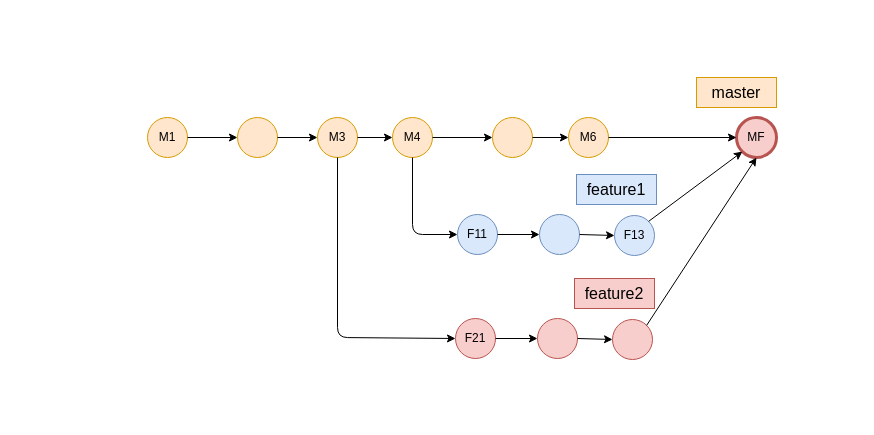
This 874x435 diagram has some shape labels left out. Here are the shapes that lost their labels. From the top down, the centre of each, then its label:
At [257,137]: "M2".
At [512,137]: "M5".
At [559,234]: "F12".
At [557,338]: "F22".
At [632,339]: "F23".
